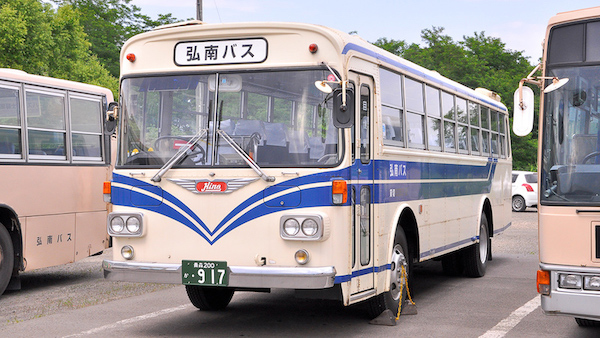destination: (173, 36, 268, 67)
